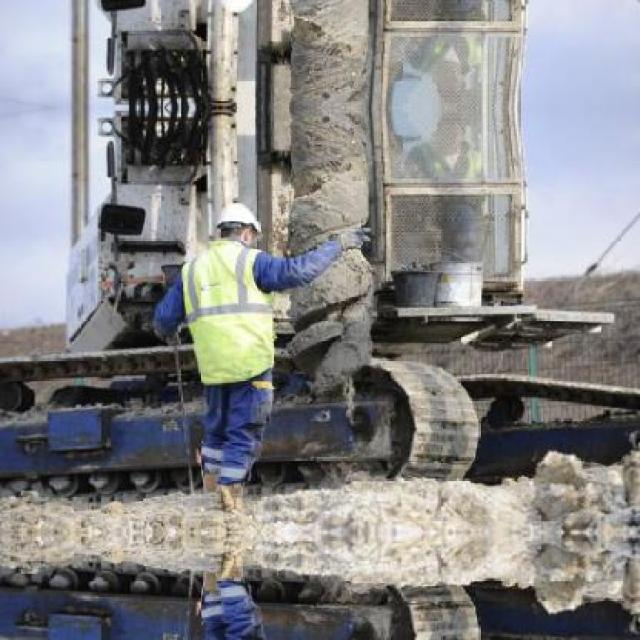helmet: (213, 200, 261, 249), (212, 0, 262, 14)
